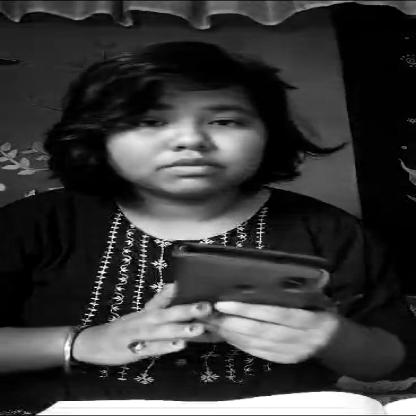Normal: (86, 65, 293, 201)
